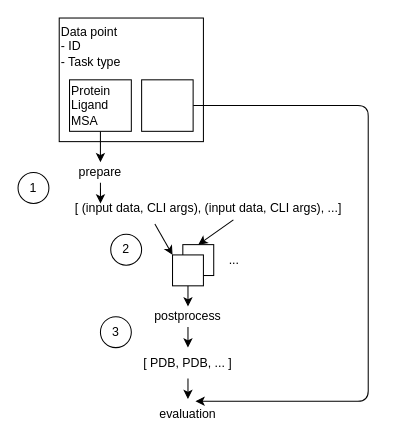
Image size: 397x448. Some labels were removed from this diagram. Each missing label, with the centre of its shape:
"Boltz" goes at point 187,270.
"Ground truth" goes at point 167,105.
